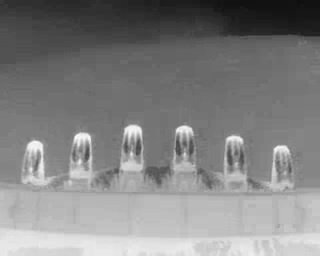claw: (173, 124, 197, 175), (223, 133, 247, 182), (119, 123, 143, 171), (19, 139, 45, 181), (271, 143, 294, 189), (70, 131, 93, 175)
